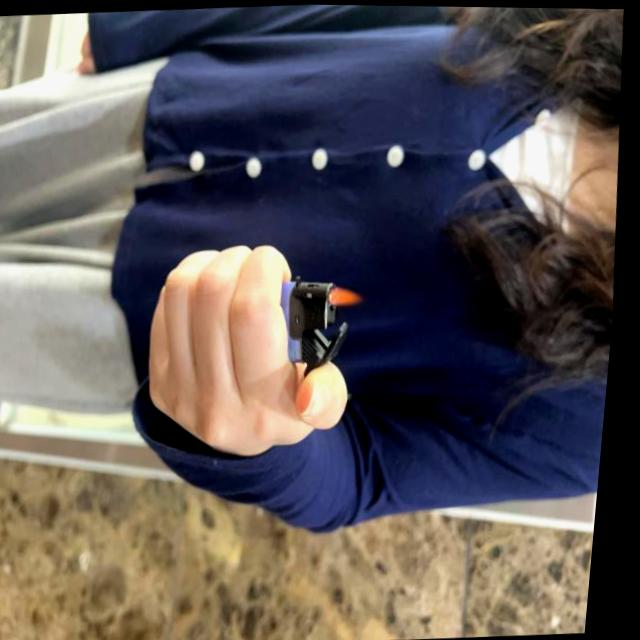Fire: (330, 283, 369, 308)
